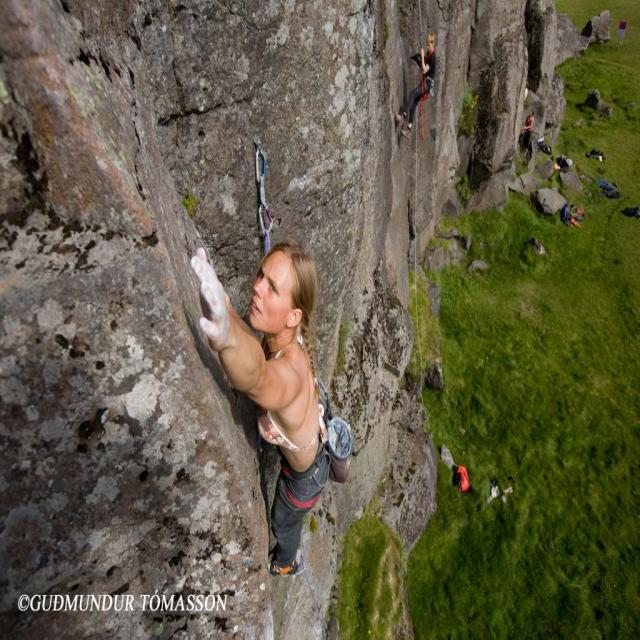nomask: (252, 254, 292, 337), (427, 36, 433, 54)
